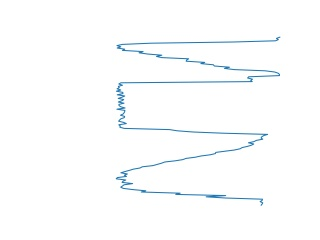distributaryChannelFill: (113, 73, 270, 141)
mouthBar: (113, 34, 284, 80)
underwaterDistributaryChannel: (112, 134, 267, 207)
